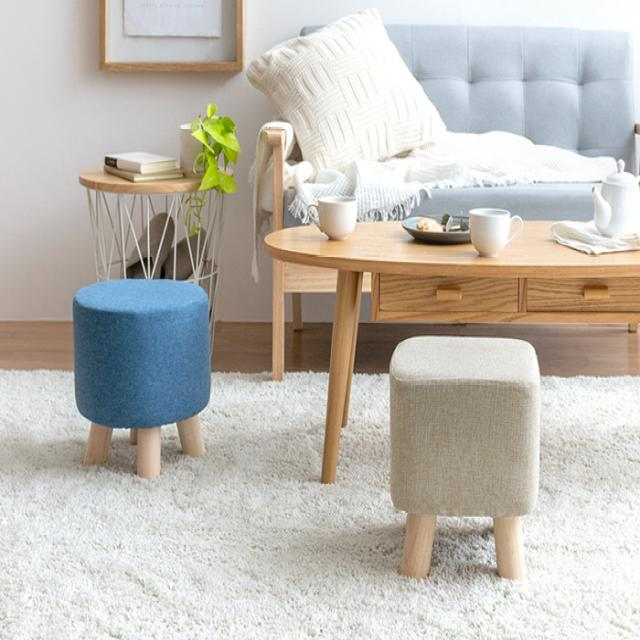natural desk: (266, 202, 640, 332)
